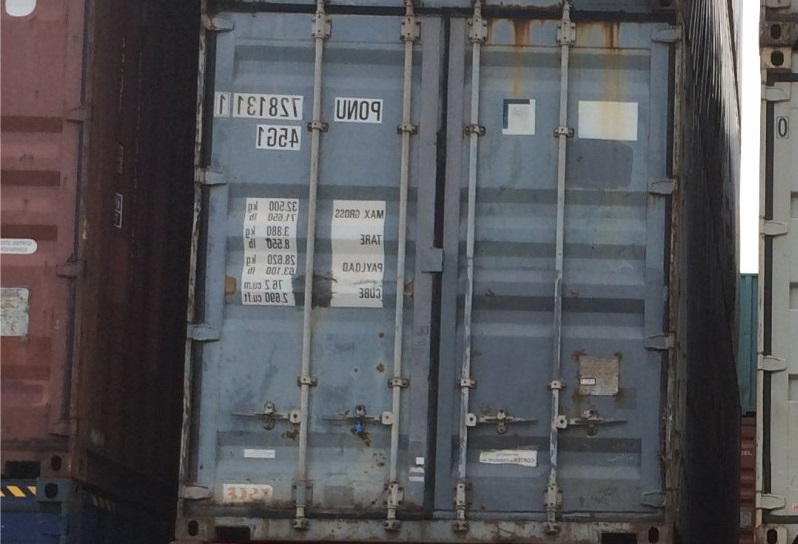container_door: (188, 5, 675, 539)
